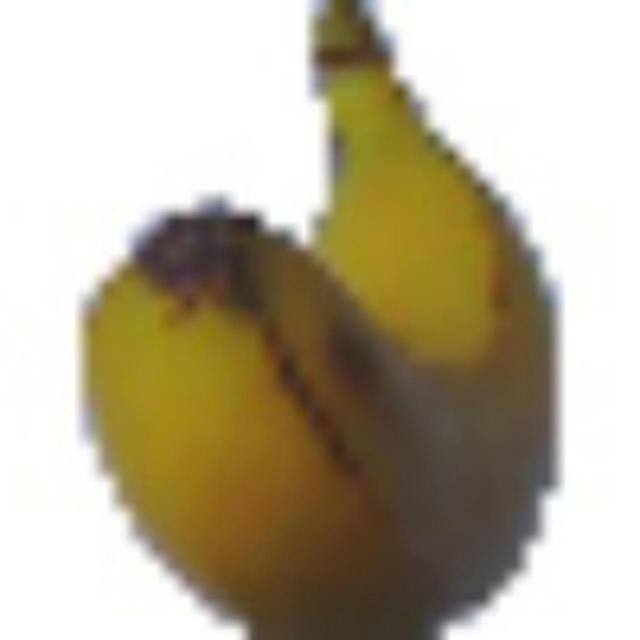banana: (83, 0, 569, 634)
